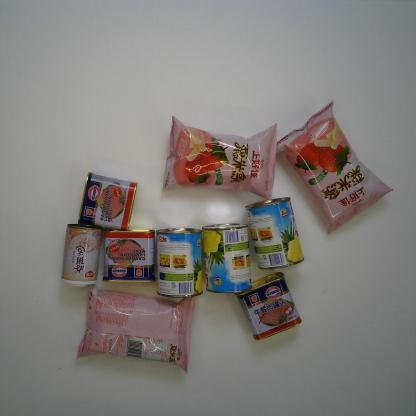Canned Food: (234, 270, 303, 342), (244, 195, 306, 272), (77, 170, 139, 232), (201, 222, 253, 294), (156, 226, 204, 300), (102, 228, 157, 284), (59, 223, 103, 288)
Puffed Food: (276, 99, 395, 236), (75, 283, 196, 374), (161, 115, 278, 203)
